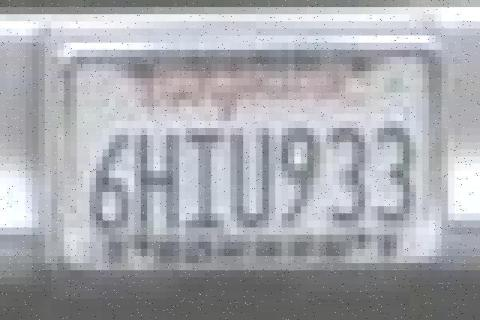LicensePlate: (49, 34, 454, 272)
